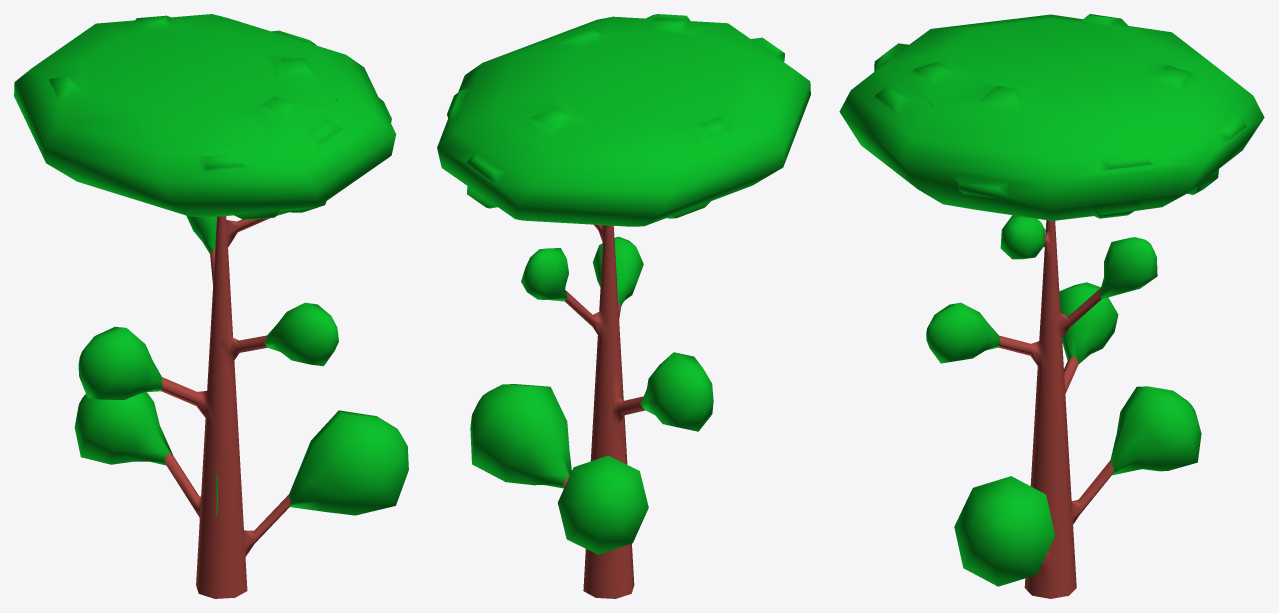
Rendered from tree2.glb.
The picture shows the model from 3 angles, left to right: view 1: azimuth 30°, elevation 25°; view 2: azimuth 150°, elevation 25°; view 3: azimuth 270°, elevation 25°; orthographic projection. The views are drawn at different scales.
Visible parts, largest first — view 1: Cylinder; view 2: Cylinder; view 3: Cylinder.
Part boxes in pixels (<box>): Cylinder: <box>14,14,408,598</box>; Cylinder: <box>437,14,810,598</box>; Cylinder: <box>839,14,1264,598</box>.
Bounding box in the file's own units: 2.71 × 4.11 × 3.05.
Materials: 1 (1 with a texture image).
